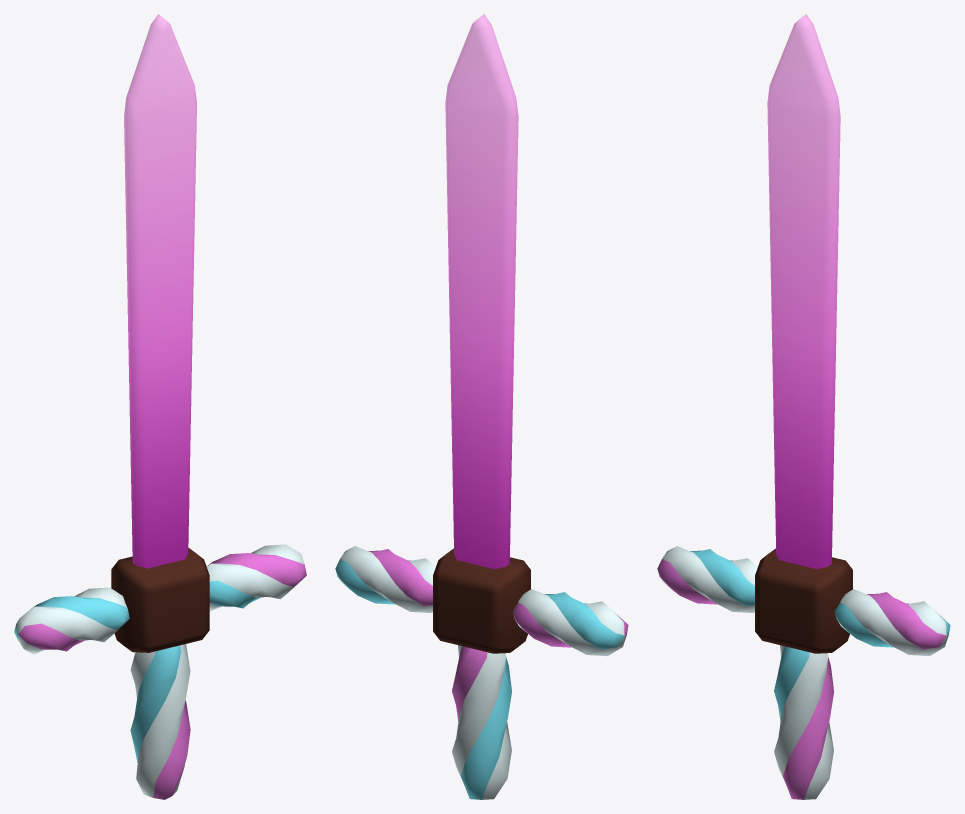
File: Candy_Sword_01.glb
3 views of the same model, side by side, from view 1: azimuth 30°, elevation 25°; view 2: azimuth 150°, elevation 25°; view 3: azimuth 330°, elevation 25° (orthographic).
Visible parts, largest first — view 1: Candy_Sword_01; view 2: Candy_Sword_01; view 3: Candy_Sword_01.
Boxes of the visible parts, x1,y1,x2,y2 form: Candy_Sword_01: (14,14,306,799); Candy_Sword_01: (335,14,628,799); Candy_Sword_01: (657,14,950,799).
Bounding box in the file's own units: 0.6361 × 1.67 × 0.1363.
2 materials, 2 textured.
